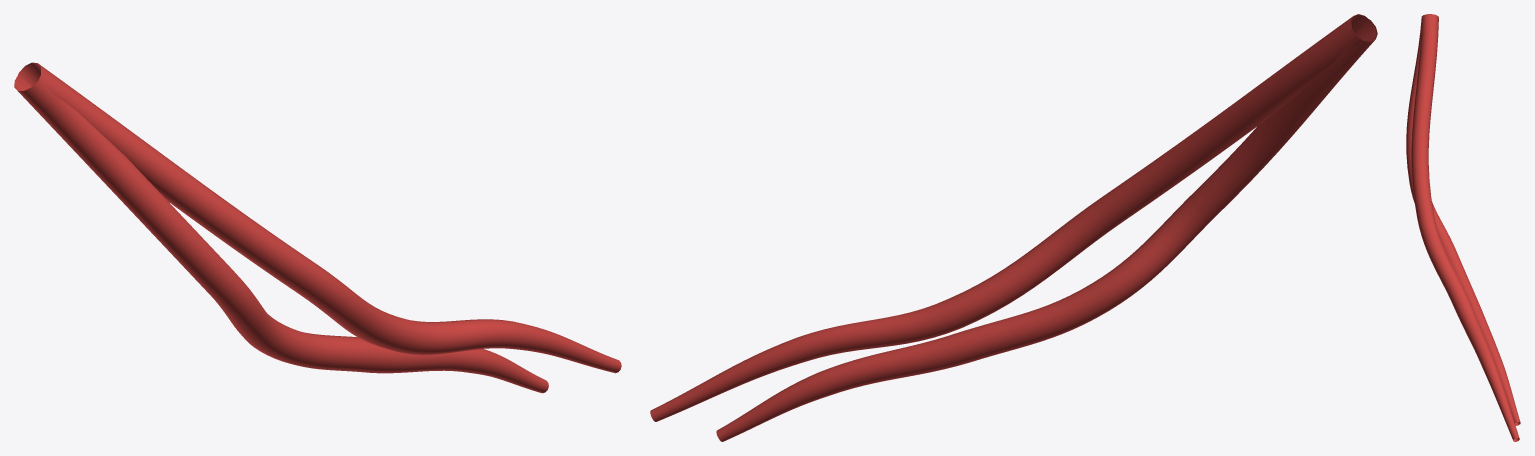
The picture shows the model from 3 angles, left to right: view 1: azimuth 30°, elevation 25°; view 2: azimuth 150°, elevation 25°; view 3: azimuth 270°, elevation 25°; orthographic projection. The views are drawn at different scales.
Parts seen in each view (by area): view 1: 左侧睫状后短动脉; view 2: 左侧睫状后短动脉; view 3: 左侧睫状后短动脉.
Boxes of the visible parts, x1,y1,x2,y2 form: 左侧睫状后短动脉: (14, 62, 621, 393); 左侧睫状后短动脉: (650, 14, 1377, 441); 左侧睫状后短动脉: (1406, 14, 1520, 441).
Size of the model in its own units: 0.0168 by 0.0125 by 0.00485.
